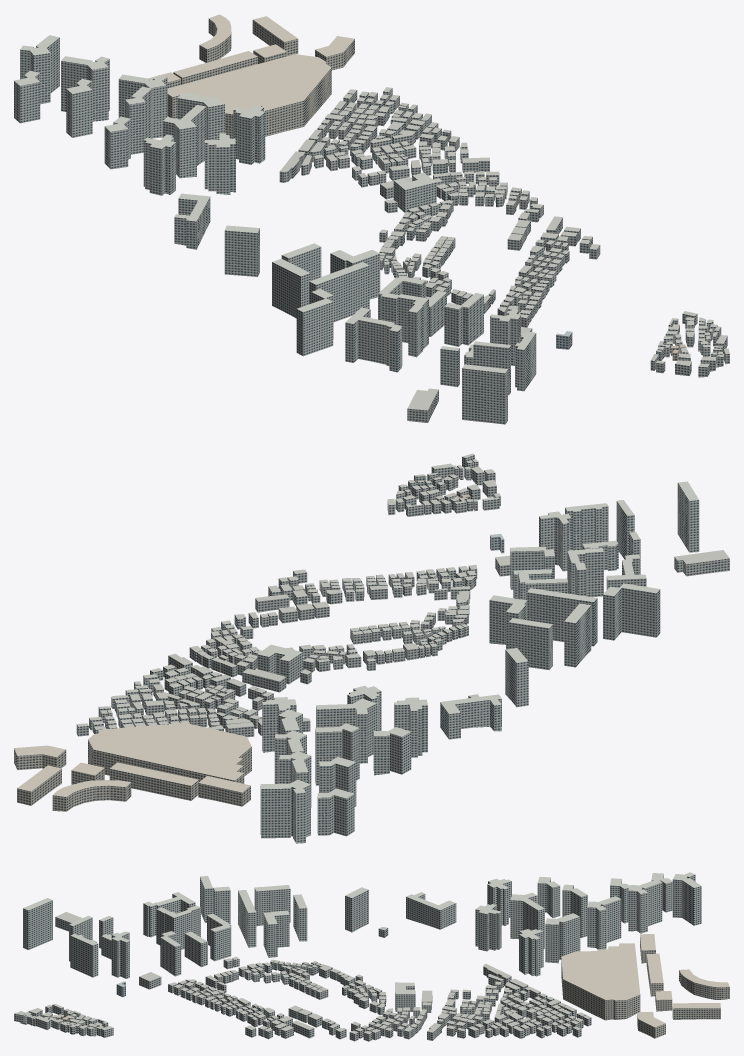
File: city_-9_-4.glb
3 renders of one model, top to bottom at view 1: azimuth 30°, elevation 25°; view 2: azimuth 150°, elevation 25°; view 3: azimuth 270°, elevation 25°, orthographic. The views are drawn at different scales.
Bounding box in the file's own units: 448 × 90.3 × 1033.
Materials: 5 (5 with a texture image).
